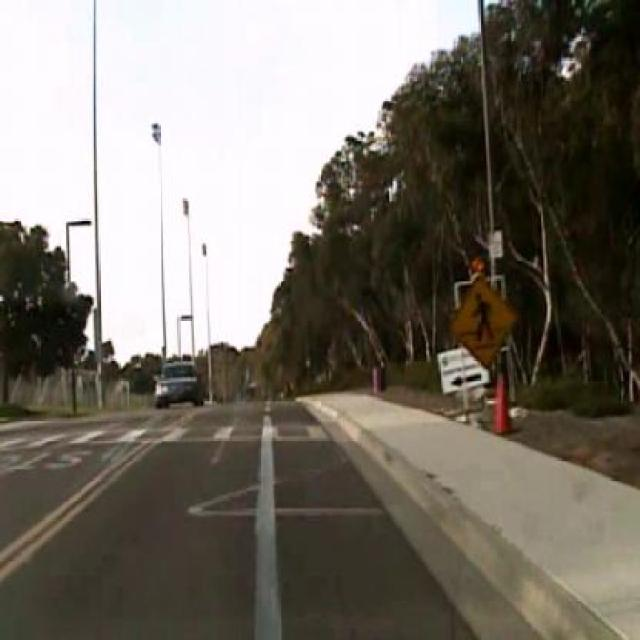pedestrianCrossing: (449, 274, 516, 371)
